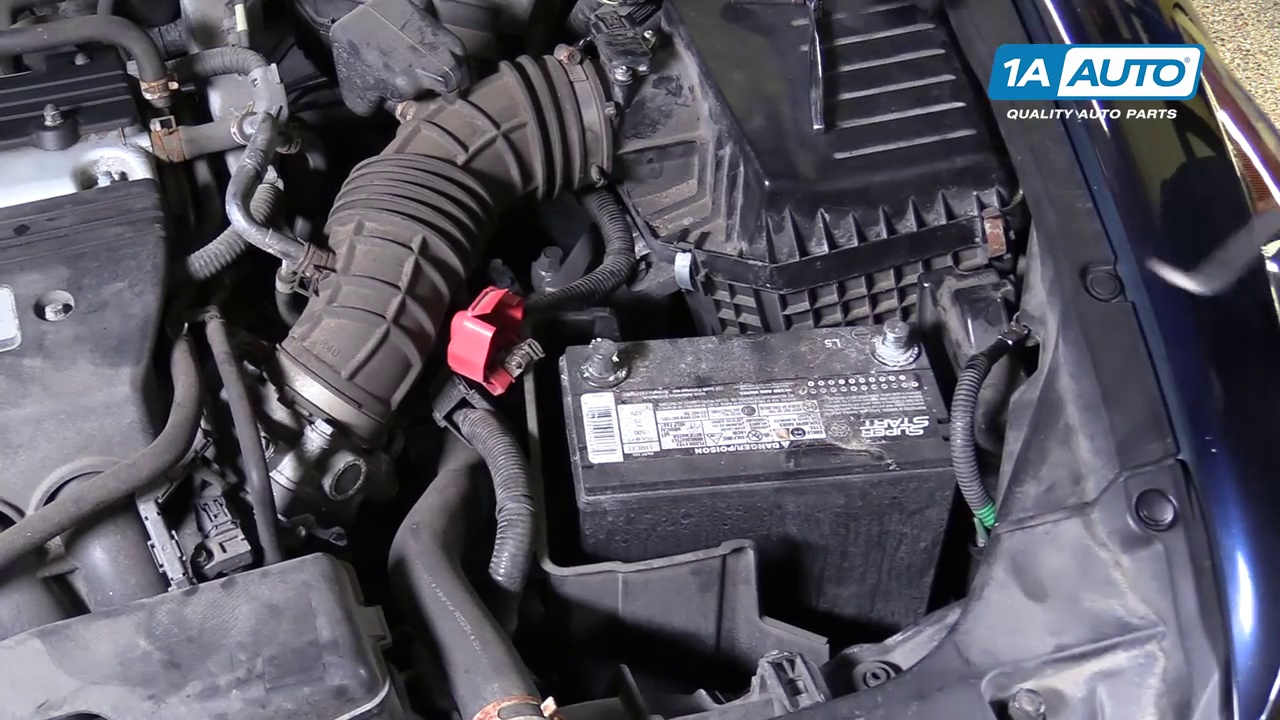battery: (559, 318, 948, 471)
neg_disconnected: (851, 293, 934, 384)
pos_disconnected: (458, 277, 641, 406)
